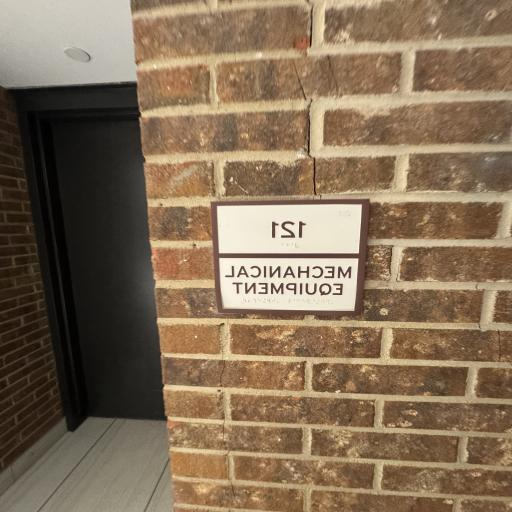room 121 sign: (202, 194, 377, 322)
